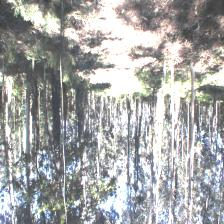trunktrack_idkeyframe: (52, 84, 60, 139), (190, 64, 195, 139)
